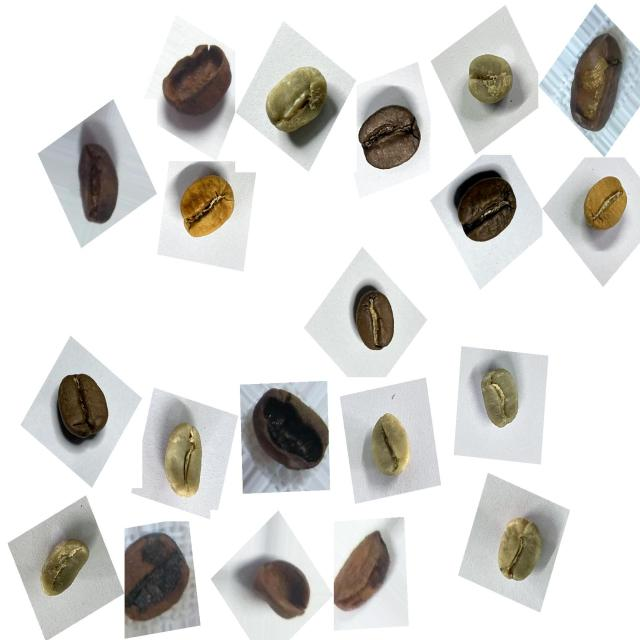bad: (242, 382, 335, 488), (563, 23, 638, 141), (154, 31, 240, 133), (118, 524, 197, 635), (327, 520, 401, 622), (66, 132, 135, 236), (246, 547, 320, 630)
dark: (449, 161, 529, 258)
green: (254, 56, 337, 153), (152, 410, 220, 508), (485, 506, 555, 596), (29, 526, 100, 612), (467, 356, 534, 442), (358, 405, 422, 491), (458, 42, 524, 120)
light: (170, 167, 247, 256), (575, 167, 640, 248)
medium: (348, 92, 429, 186), (45, 366, 119, 455), (342, 281, 404, 362)
